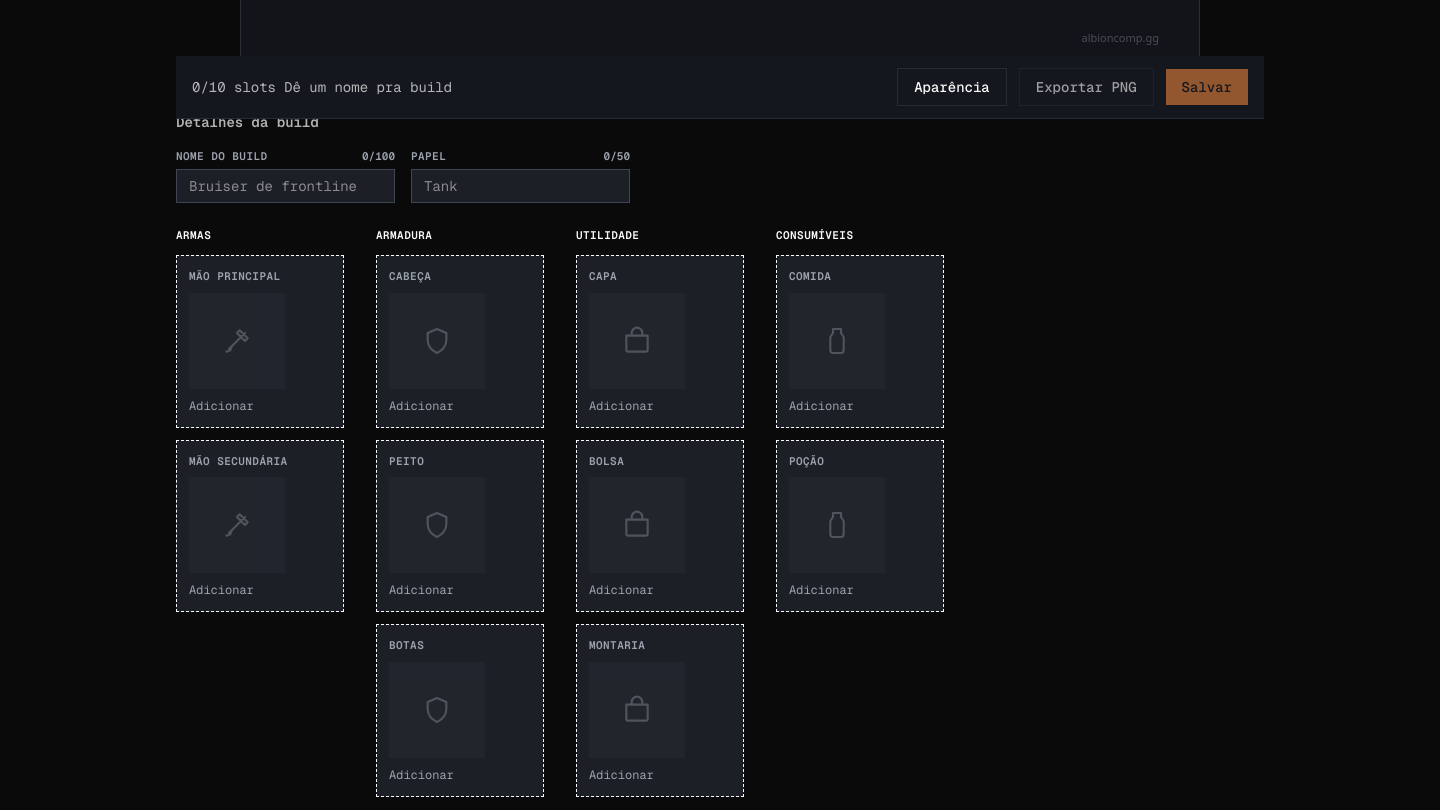
Test: /build/new — ItemPicker wiring (ACM-034) › opens the picker when an empty slot is clicked
(page scrolled)
Click the 1st text "Adicionar": {"x": 221, "y": 406} x1=189 y1=396 x2=254 y2=414
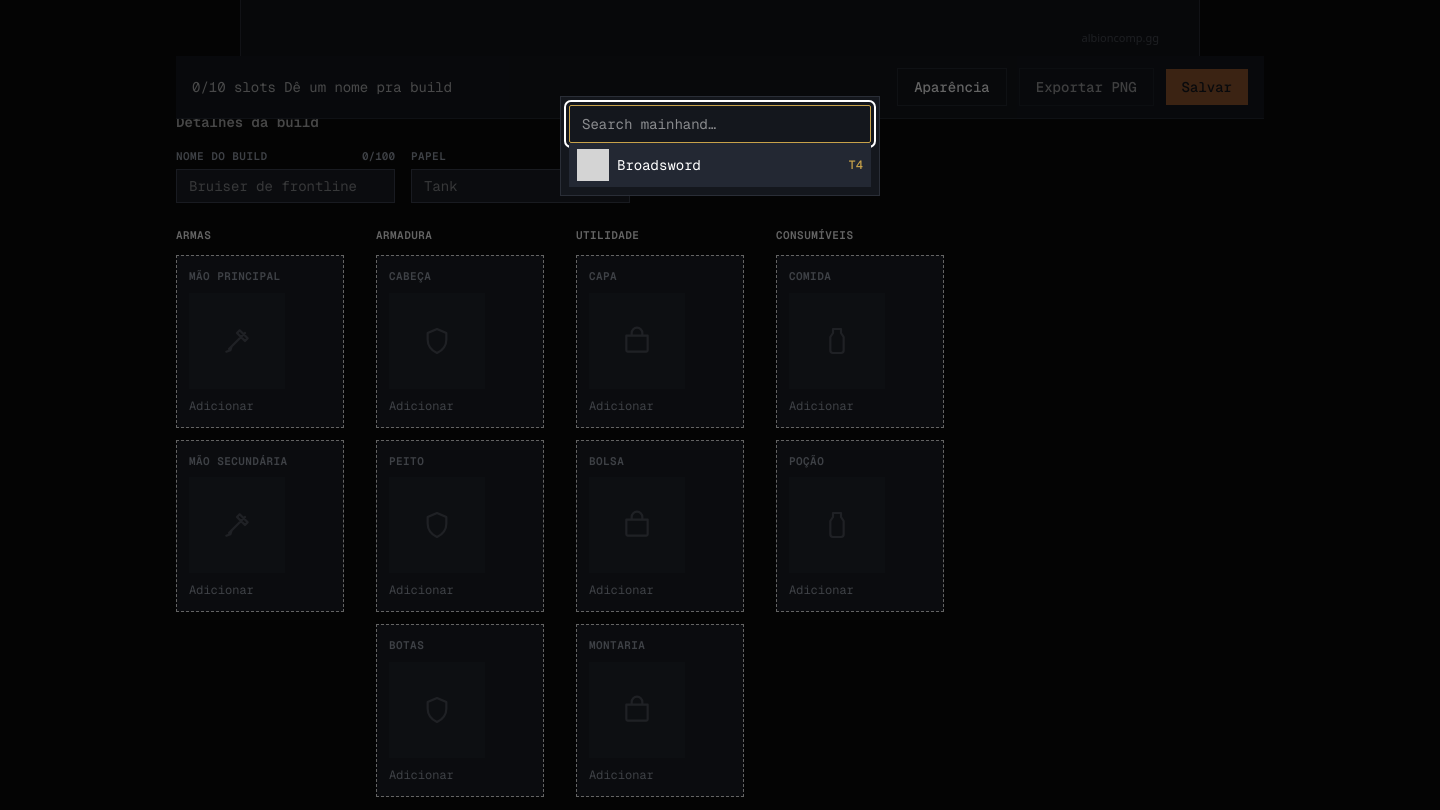
Result: the dialog is shown at x1=560 y1=96 x2=880 y2=196
Result: the dropdown is shown at x1=569 y1=105 x2=871 y2=143
